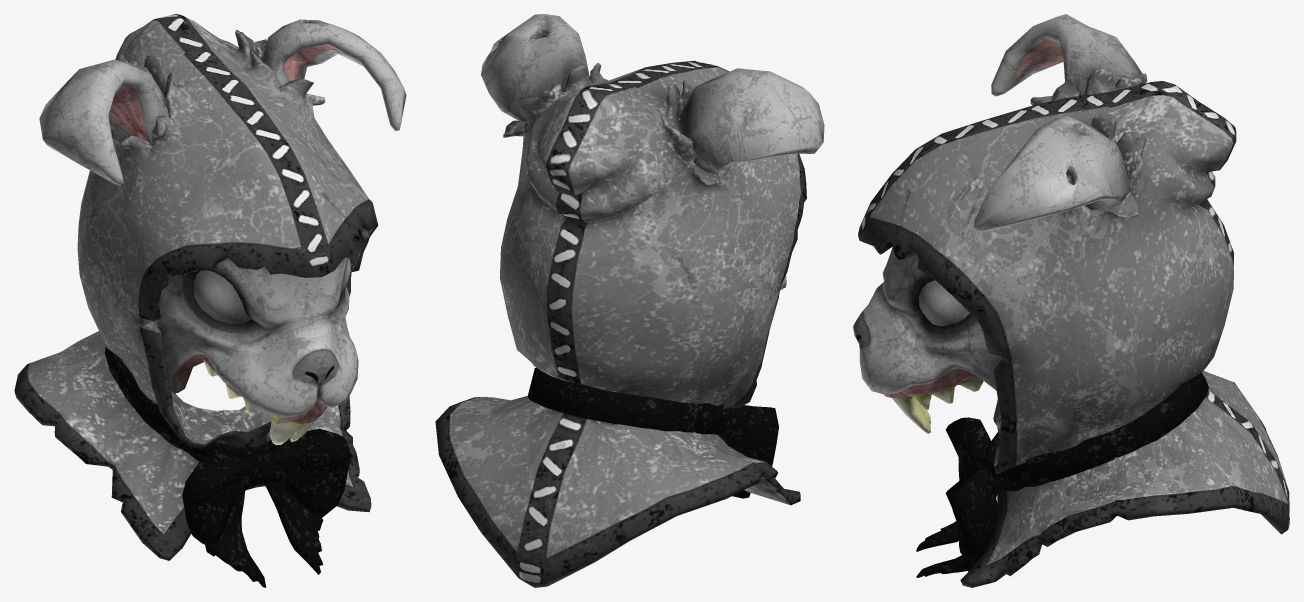
Rendered from SurvivorMale_Head_Mask_Bunny_LOD0.glb.
The picture shows the model from 3 angles, left to right: view 1: azimuth 30°, elevation 25°; view 2: azimuth 150°, elevation 25°; view 3: azimuth 270°, elevation 25°; orthographic projection. The views are drawn at different scales.
Visible parts, largest first — view 1: Hoodie; view 2: Hoodie; view 3: Hoodie.
Part boxes in pixels (x1=…): Hoodie: x1=14, y1=14, x2=406, y2=587; Hoodie: x1=435, y1=14, x2=824, y2=587; Hoodie: x1=853, y1=14, x2=1289, y2=587.
Bounding box in the file's own units: 0.3027 × 0.4168 × 0.3365.
Materials: 1 (1 with a texture image).
